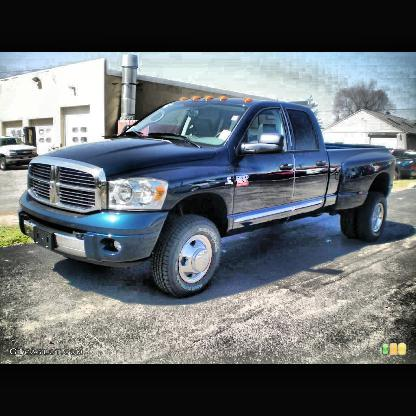Dodge Ram Pickup 3500 Quad Cab 2009: (17, 96, 395, 299)
